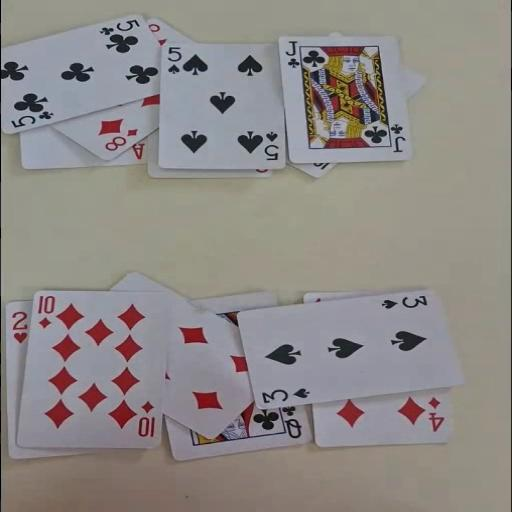10: (135, 399, 156, 438), (35, 293, 56, 329)
2: (9, 309, 29, 344)
3: (259, 386, 310, 404), (378, 294, 429, 310)
4: (426, 395, 446, 433)
5: (96, 17, 141, 36), (8, 110, 54, 128), (262, 129, 280, 161), (167, 45, 185, 74)
8: (101, 127, 140, 152)
J: (388, 122, 406, 153), (284, 40, 300, 68)
Q: (280, 412, 304, 440)
